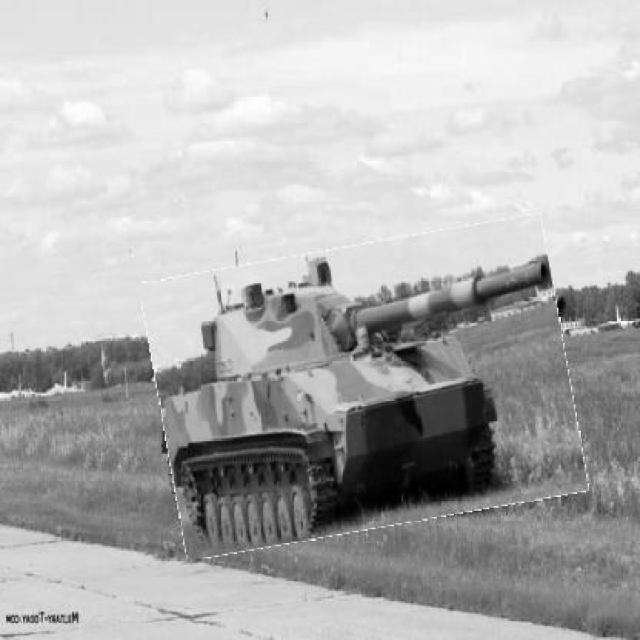Tank: (151, 230, 580, 546)
